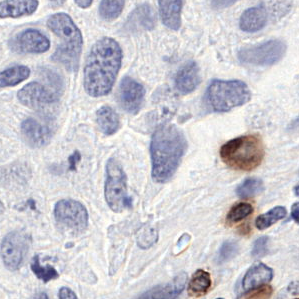Lymphocyte: (226, 200, 256, 226)
